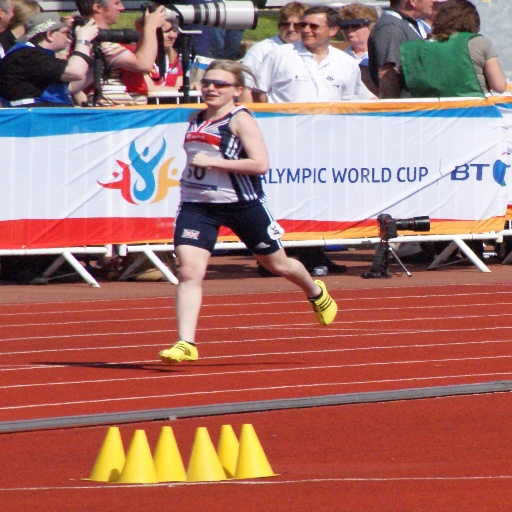hand: (288, 273, 340, 320), (141, 4, 170, 29), (74, 18, 101, 43), (187, 151, 211, 170)
